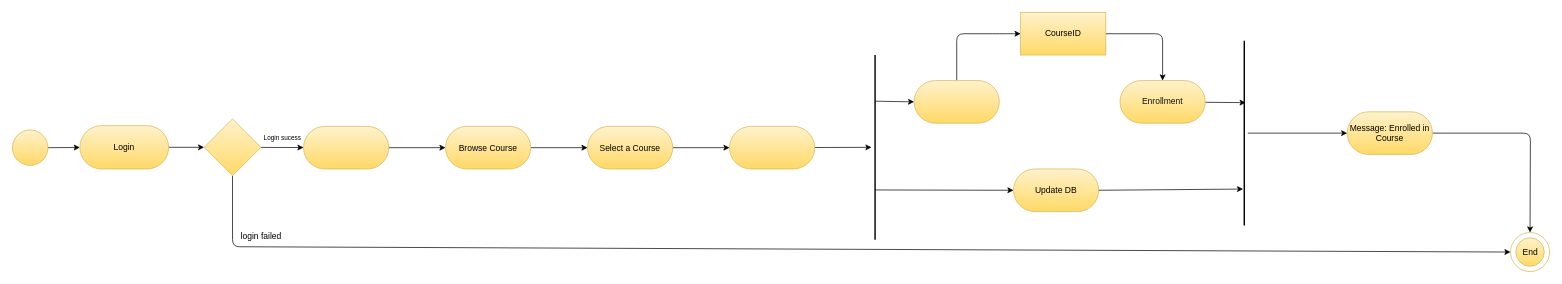
Image size: 1562x284. Some labels were removed from this diagram. The shapes that lost their labels are listed below. From the top down, each one's centre as x and y in pixels, then its label:
point (956, 101): Send CourseID
point (30, 147): Start
point (346, 147): Verify Login
point (772, 147): Click Enroll
